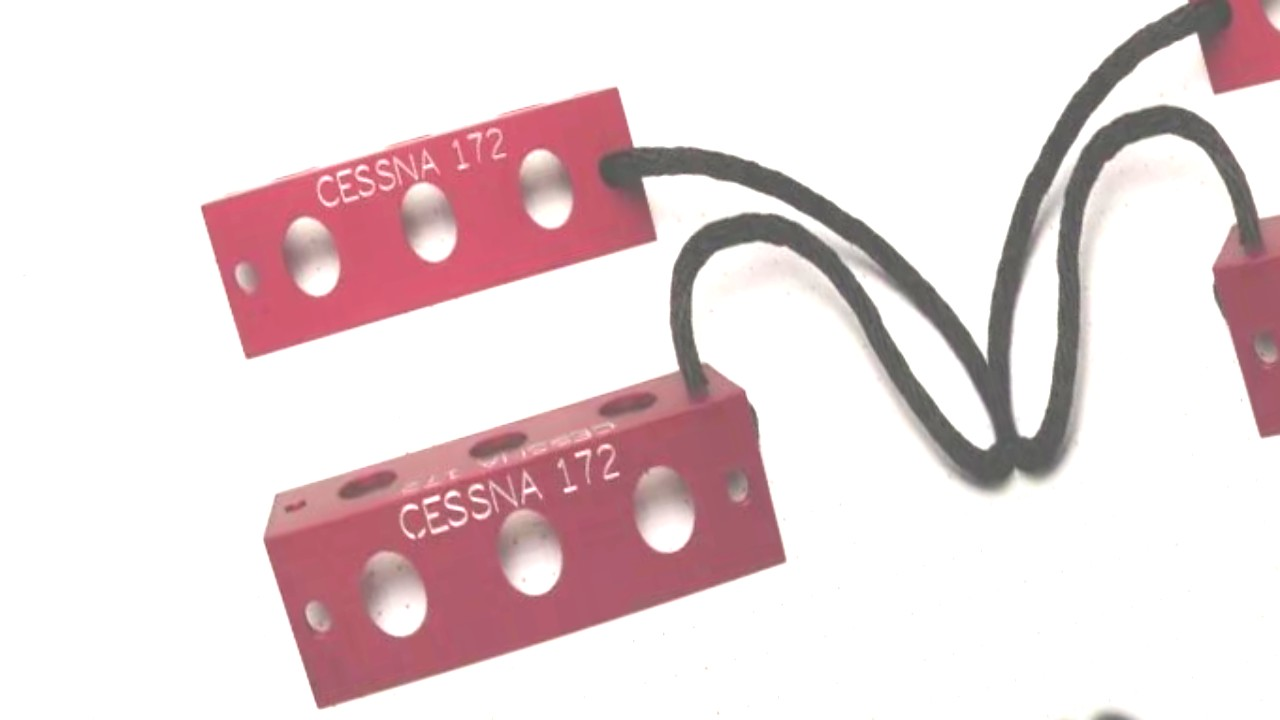chock: (242, 347, 809, 720), (188, 75, 678, 368)
